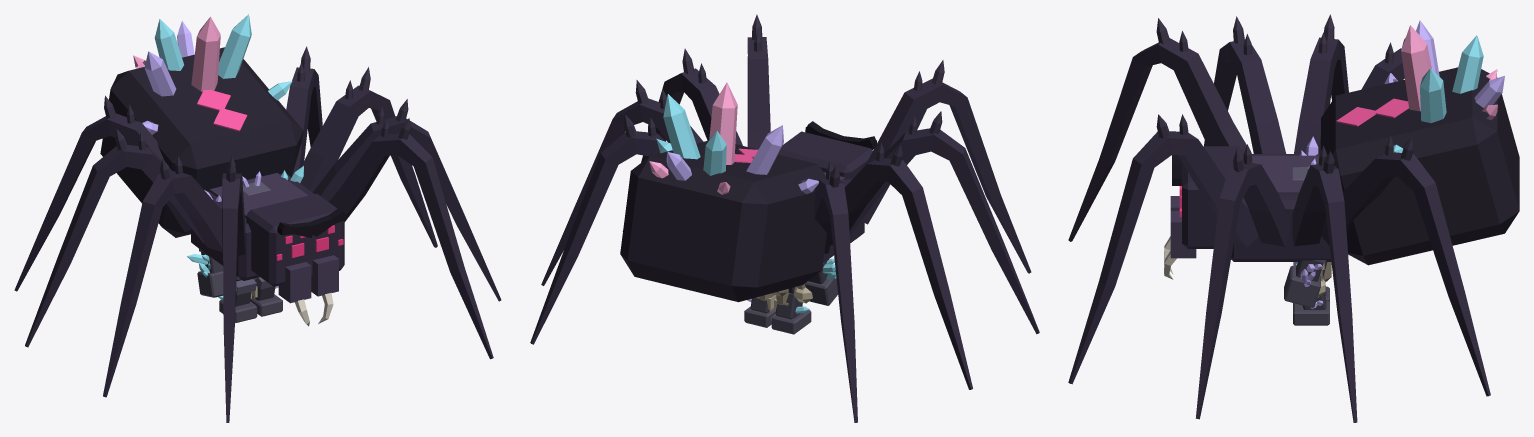
The model's file is w3_enemies.fbx.
3 renders of one model, left to right at view 1: azimuth 30°, elevation 25°; view 2: azimuth 150°, elevation 25°; view 3: azimuth 270°, elevation 25°, orthographic. The views are drawn at different scales.
Visible parts, largest first — view 1: SpiderQueen.Abdomen, SpiderQueen.LeftArm, SpiderQueen.RightLeg, SpiderQueen.Head, SpiderQueen.LeftBackLeg, SpiderQueen.RightBackLeg, SpiderQueen.LeftLeg, SpiderQueen.RightHindLeg, SpiderQueen.RightArm, SpiderQueen.CrystalsCyan, SpiderQueen.LeftHindLeg, SpiderQueen.Chelicerae (+11 smaller); view 2: SpiderQueen.Abdomen, SpiderQueen.RightBackLeg, SpiderQueen.RightArm, SpiderQueen.RightLeg, SpiderQueen.LeftHindLeg, SpiderQueen.RightHindLeg, SpiderQueen.Head, SpiderQueen.CrystalsCyan, SpiderQueen.LeftBackLeg, SpiderQueen.LeftArm, SpiderQueen.LeftLeg, SpiderQueen.CrystalsPink (+3 smaller); view 3: SpiderQueen.Abdomen, SpiderQueen.LeftArm, SpiderQueen.RightArm, SpiderQueen.LeftHindLeg, SpiderQueen.LeftLeg, SpiderQueen.LeftBackLeg, SpiderQueen.RightLeg, SpiderQueen.RightBackLeg, SpiderQueen.Head, SpiderQueen.CrystalsCyan, SpiderQueen.Torso, SpiderQueen.CrystalsPink (+7 smaller).
Part boxes in pixels (x1,y1,x2,y2): SpiderQueen.Abdomen: (100, 47, 303, 237); SpiderQueen.LeftArm: (329, 133, 493, 359); SpiderQueen.RightLeg: (103, 171, 222, 397); SpiderQueen.Head: (246, 193, 344, 286); SpiderQueen.LeftBackLeg: (300, 85, 437, 247); SpiderQueen.RightBackLeg: (25, 145, 204, 347); SpiderQueen.LeftLeg: (312, 116, 501, 301); SpiderQueen.RightHindLeg: (14, 113, 191, 291); SpiderQueen.RightArm: (222, 173, 245, 422); SpiderQueen.CrystalsCyan: (154, 14, 292, 100); SpiderQueen.LeftHindLeg: (286, 67, 322, 177); SpiderQueen.Chelicerae: (278, 255, 338, 303); SpiderQueen.Abdomen: (620, 140, 826, 302); SpiderQueen.RightBackLeg: (830, 158, 972, 389); SpiderQueen.RightArm: (861, 78, 1031, 273); SpiderQueen.RightLeg: (849, 128, 1039, 334); SpiderQueen.LeftHindLeg: (530, 131, 665, 344); SpiderQueen.RightHindLeg: (814, 178, 857, 422); SpiderQueen.Head: (778, 131, 872, 179); SpiderQueen.CrystalsCyan: (656, 94, 726, 175); SpiderQueen.LeftBackLeg: (541, 98, 703, 285); SpiderQueen.LeftArm: (747, 37, 770, 149); SpiderQueen.LeftLeg: (622, 68, 742, 231); SpiderQueen.CrystalsPink: (649, 82, 737, 194); SpiderQueen.Abdomen: (1321, 67, 1519, 265); SpiderQueen.LeftArm: (1068, 131, 1258, 384); SpiderQueen.RightArm: (1068, 38, 1246, 241); SpiderQueen.LeftHindLeg: (1321, 152, 1490, 396); SpiderQueen.LeftLeg: (1195, 163, 1288, 419); SpiderQueen.LeftBackLeg: (1292, 164, 1357, 422); SpiderQueen.RightLeg: (1204, 39, 1286, 153); SpiderQueen.RightBackLeg: (1294, 37, 1348, 153); SpiderQueen.Head: (1182, 146, 1244, 248); SpiderQueen.CrystalsCyan: (1393, 35, 1483, 152); SpiderQueen.Torso: (1231, 154, 1331, 261); SpiderQueen.CrystalsPink: (1401, 25, 1497, 119).
Bounding box in the file's own units: 23.21 × 14.09 × 19.85.
